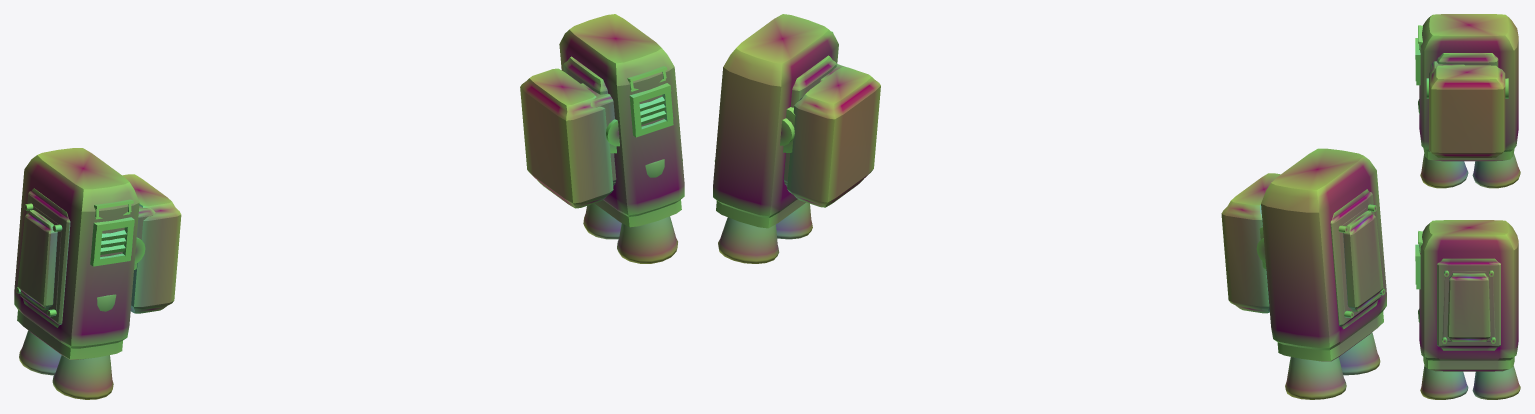
The model's file is llm_gen_leg_thrusters_106_255449.glb.
The picture shows the model from 3 angles, left to right: view 1: azimuth 30°, elevation 25°; view 2: azimuth 150°, elevation 25°; view 3: azimuth 270°, elevation 25°; orthographic projection. The views are drawn at different scales.
Parts seen in each view (by area): view 1: hover_cowling_armor_1_wing_white_l, hover_cowling_armor_1_wing_white_r, adapter_calf_clamp_r, adapter_calf_clamp_l, hover_flank_panel_5_titanium_silver_l, hover_bell_fwd_7_vernier_bell_vernier_l, hover_bell_fwd_7_vernier_bell_vernier_r, adapter_sub_hover_flank_dark_4_adapter_dark_l, adapter_sub_hover_manifold_dark_6_adapter_dark_l, adapter_sub_hover_intake_grille_2_dark_l, adapter_sub_hover_intake_grille_2_dark_r, hover_bell_aft_8_vernier_bell_vernier_l (+3 smaller); view 2: hover_cowling_armor_1_wing_white_l, hover_cowling_armor_1_wing_white_r, adapter_calf_clamp_r, adapter_calf_clamp_l, hover_flank_panel_5_titanium_silver_l, hover_bell_aft_8_vernier_bell_vernier_l, hover_bell_aft_8_vernier_bell_vernier_r, adapter_sub_hover_flank_dark_4_adapter_dark_l, adapter_sub_hover_manifold_dark_6_adapter_dark_l, hover_bell_fwd_7_vernier_bell_vernier_l, adapter_sub_hover_manifold_dark_6_adapter_dark_r, hover_bell_fwd_7_vernier_bell_vernier_r (+1 smaller); view 3: hover_cowling_armor_1_wing_white_r, adapter_calf_clamp_l, hover_cowling_armor_1_wing_white_l, hover_flank_panel_5_titanium_silver_r, adapter_sub_hover_flank_dark_4_adapter_dark_r, hover_bell_aft_8_vernier_bell_vernier_r, hover_bell_fwd_7_vernier_bell_vernier_r, hover_bell_aft_8_vernier_bell_vernier_l, hover_bell_fwd_7_vernier_bell_vernier_l, adapter_sub_hover_manifold_dark_6_adapter_dark_r, hover_core_mount_0_adapter_dark_l, adapter_sub_hover_manifold_dark_6_adapter_dark_l (+4 smaller).
Part boxes in pixels (<box>): hover_cowling_armor_1_wing_white_l: <box>14,148,139,348</box>; hover_cowling_armor_1_wing_white_r: <box>559,14,684,216</box>; adapter_calf_clamp_r: <box>520,68,616,208</box>; adapter_calf_clamp_l: <box>122,174,181,313</box>; hover_flank_panel_5_titanium_silver_l: <box>16,203,62,316</box>; hover_bell_fwd_7_vernier_bell_vernier_l: <box>52,355,113,399</box>; hover_bell_fwd_7_vernier_bell_vernier_r: <box>617,216,677,263</box>; adapter_sub_hover_flank_dark_4_adapter_dark_l: <box>20,188,70,327</box>; adapter_sub_hover_manifold_dark_6_adapter_dark_l: <box>17,310,122,359</box>; adapter_sub_hover_intake_grille_2_dark_l: <box>90,217,134,266</box>; adapter_sub_hover_intake_grille_2_dark_r: <box>629,83,673,137</box>; hover_bell_aft_8_vernier_bell_vernier_l: <box>19,330,61,375</box>; hover_cowling_armor_1_wing_white_l: <box>1261,148,1386,350</box>; hover_cowling_armor_1_wing_white_r: <box>713,14,838,217</box>; adapter_calf_clamp_r: <box>783,67,880,207</box>; adapter_calf_clamp_l: <box>1221,173,1280,313</box>; hover_flank_panel_5_titanium_silver_l: <box>1338,204,1385,318</box>; hover_bell_aft_8_vernier_bell_vernier_l: <box>1285,357,1346,399</box>; hover_bell_aft_8_vernier_bell_vernier_r: <box>718,217,779,263</box>; adapter_sub_hover_flank_dark_4_adapter_dark_l: <box>1330,189,1381,329</box>; adapter_sub_hover_manifold_dark_6_adapter_dark_l: <box>1277,311,1383,361</box>; hover_bell_fwd_7_vernier_bell_vernier_l: <box>1339,332,1380,375</box>; adapter_sub_hover_manifold_dark_6_adapter_dark_r: <box>716,199,805,228</box>; hover_bell_fwd_7_vernier_bell_vernier_r: <box>776,202,812,239</box>; hover_cowling_armor_1_wing_white_r: <box>1419,220,1518,360</box>; adapter_calf_clamp_l: <box>1429,65,1505,157</box>; hover_cowling_armor_1_wing_white_l: <box>1419,14,1518,151</box>; hover_flank_panel_5_titanium_silver_r: <box>1442,270,1495,343</box>; adapter_sub_hover_flank_dark_4_adapter_dark_r: <box>1437,258,1500,350</box>; hover_bell_aft_8_vernier_bell_vernier_r: <box>1472,366,1520,399</box>; hover_bell_fwd_7_vernier_bell_vernier_r: <box>1420,365,1468,399</box>; hover_bell_aft_8_vernier_bell_vernier_l: <box>1472,153,1520,188</box>; hover_bell_fwd_7_vernier_bell_vernier_l: <box>1420,154,1468,188</box>; adapter_sub_hover_manifold_dark_6_adapter_dark_r: <box>1423,357,1514,371</box>; hover_core_mount_0_adapter_dark_l: <box>1437,53,1498,66</box>; adapter_sub_hover_manifold_dark_6_adapter_dark_l: <box>1423,148,1514,161</box>.
Bounding box in the file's own units: 82.74 × 25.73 × 15.18.
